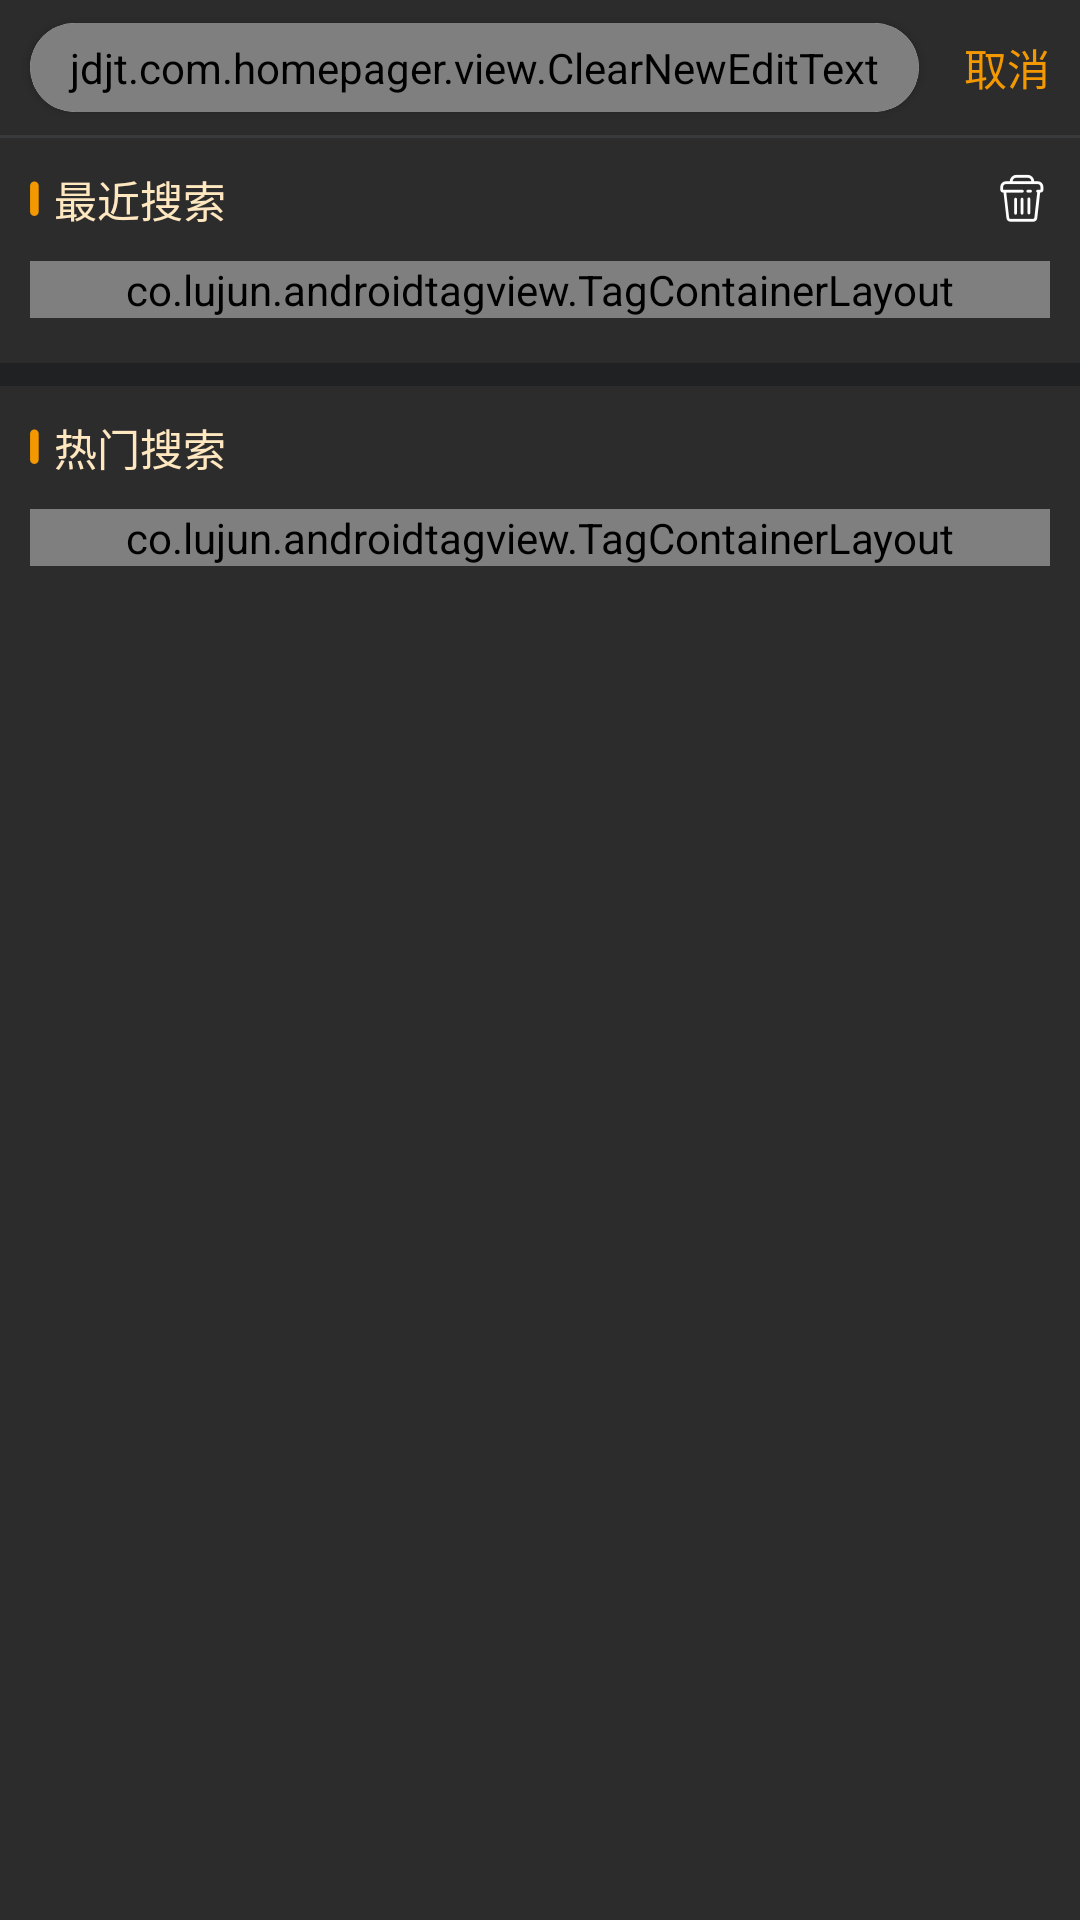

Screen size 1080w x 1920h. Icon name, then its box in pixels as (x1, y1, x2, y2):
delete history: (1000, 175, 1044, 222)
